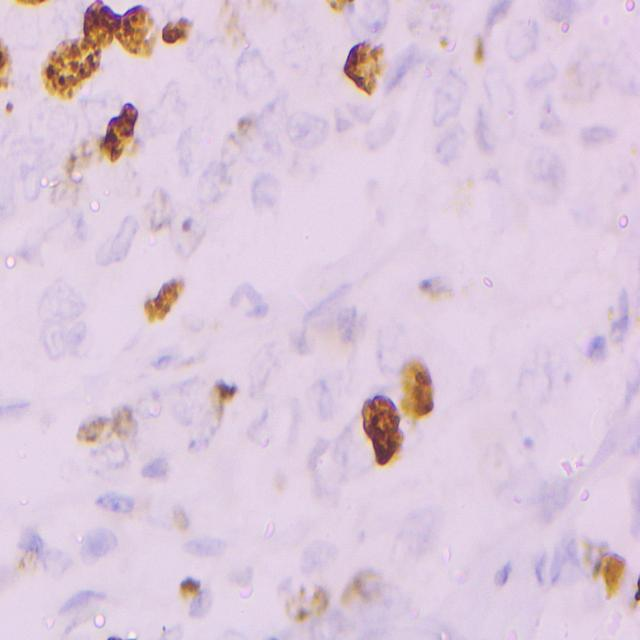Healthy cell: (134, 73, 190, 137), (157, 370, 215, 430), (89, 216, 140, 280), (479, 67, 515, 151), (32, 282, 94, 330), (310, 438, 350, 508), (193, 44, 236, 100), (237, 43, 275, 105), (360, 100, 401, 157), (501, 16, 544, 69), (225, 279, 269, 329), (3, 392, 37, 456), (516, 336, 547, 406), (289, 102, 332, 152), (248, 165, 286, 216), (436, 62, 469, 120), (9, 216, 52, 260), (76, 530, 118, 575), (39, 328, 90, 362), (166, 126, 206, 169), (426, 120, 458, 170), (536, 0, 588, 30), (524, 105, 570, 137), (200, 162, 232, 206), (92, 494, 140, 522), (12, 164, 43, 204), (220, 559, 256, 592), (142, 446, 168, 486)
cancer-cell-QiJm: (289, 299, 366, 369), (357, 393, 410, 480), (43, 36, 106, 98), (337, 556, 386, 621), (393, 359, 440, 425), (549, 53, 609, 102), (117, 0, 161, 66), (276, 576, 331, 628), (348, 33, 388, 103), (259, 455, 307, 511), (518, 149, 576, 195), (146, 264, 185, 321), (70, 130, 110, 183), (613, 564, 640, 640), (600, 280, 632, 344), (3, 537, 42, 589), (140, 178, 172, 240), (421, 0, 455, 58), (592, 543, 622, 608), (109, 102, 138, 164), (72, 410, 120, 447), (447, 162, 489, 204), (220, 113, 256, 160), (162, 500, 200, 544), (212, 0, 243, 52), (49, 162, 84, 208), (81, 0, 119, 42), (580, 113, 617, 156), (411, 263, 446, 307), (82, 446, 130, 477), (208, 377, 240, 423), (572, 524, 602, 572), (163, 16, 200, 50), (172, 577, 204, 613), (357, 0, 390, 34), (0, 37, 21, 89), (112, 402, 141, 438), (466, 29, 488, 69), (478, 0, 510, 26), (243, 0, 284, 20), (327, 0, 357, 20), (178, 210, 196, 237), (11, 0, 55, 11), (2, 96, 21, 116)
